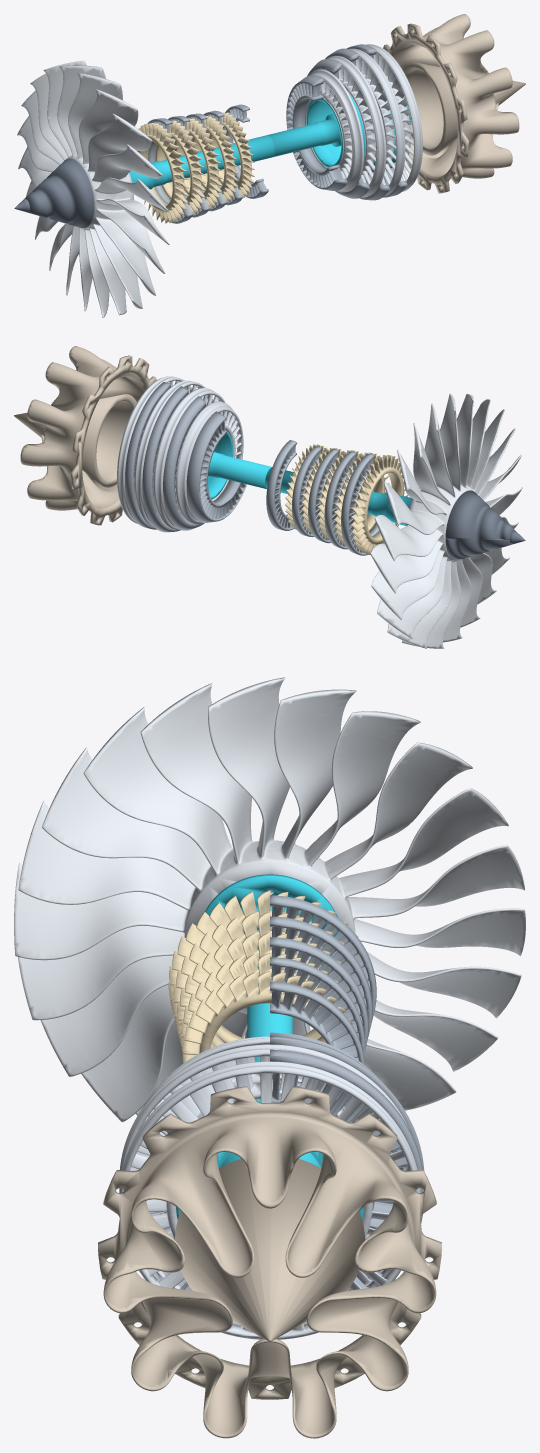
Rendered from L2_turbofan_core.glb.
3 renders of one model, top to bottom at view 1: azimuth 30°, elevation 25°; view 2: azimuth 150°, elevation 25°; view 3: azimuth 270°, elevation 25°, orthographic. The views are drawn at different scales.
Visible parts, largest first — view 1: L2_Titanium_Fan_Rotor, L2_Lobed_Exhaust_Mixer, L2_Exhaust_Center_Cone, L2_Spinner_Cone, L2_LPT_Stage2_Rotor, L2_LPT_Stage1_Rotor, L2_LPT_Stage3_Rotor, L2_LPT_Stage4_Rotor, L2_LPT_Stage1_Stator, L2_HPC_Stage1_Rotor, L2_N1_LP_Shaft_Aft, L2_N1_LP_Shaft_Front (+10 smaller); view 2: L2_Titanium_Fan_Rotor, L2_Lobed_Exhaust_Mixer, L2_Exhaust_Center_Cone, L2_LPT_Stage1_Stator, L2_Spinner_Cone, L2_LPT_Stage1_Rotor, L2_HPC_Stage1_Rotor, L2_LPT_Stage2_Stator, L2_LPT_Stage3_Stator, L2_LPT_Stage2_Rotor, L2_LPT_Stage4_Stator, L2_LPT_Stage3_Rotor (+13 smaller); view 3: L2_Titanium_Fan_Rotor, L2_Lobed_Exhaust_Mixer, L2_Exhaust_Center_Cone, L2_LPT_Stage4_Rotor, L2_LPT_Stage3_Rotor, L2_HPC_Stage5_Rotor, L2_LPT_Stage4_Stator, L2_N1_LP_Shaft_Front, L2_HPC_Stage5_Stator, L2_HPC_Stage1_Rotor, L2_HPC_Stage2_Rotor, L2_HPC_Stage1_Stator (+7 smaller).
Part boxes in pixels (x1,y1,x2,y2): L2_Titanium_Fan_Rotor: (17, 60, 169, 317); L2_Lobed_Exhaust_Mixer: (383, 14, 519, 193); L2_Exhaust_Center_Cone: (400, 62, 525, 155); L2_Spinner_Cone: (24, 158, 94, 228); L2_LPT_Stage2_Rotor: (327, 56, 386, 197); L2_LPT_Stage1_Rotor: (304, 69, 364, 192); L2_LPT_Stage3_Rotor: (349, 48, 405, 196); L2_LPT_Stage4_Rotor: (366, 44, 422, 191); L2_LPT_Stage1_Stator: (286, 75, 347, 190); L2_HPC_Stage1_Rotor: (137, 123, 188, 223); L2_N1_LP_Shaft_Aft: (267, 105, 410, 156); L2_N1_LP_Shaft_Front: (129, 135, 274, 189); L2_Titanium_Fan_Rotor: (370, 394, 522, 648); L2_Lobed_Exhaust_Mixer: (20, 346, 156, 525); L2_Exhaust_Center_Cone: (14, 394, 136, 487); L2_LPT_Stage1_Stator: (186, 411, 246, 522); L2_Spinner_Cone: (445, 490, 515, 560); L2_LPT_Stage1_Rotor: (175, 401, 243, 524); L2_HPC_Stage1_Rotor: (351, 455, 407, 554); L2_LPT_Stage2_Stator: (163, 396, 205, 530); L2_LPT_Stage3_Stator: (142, 386, 188, 532); L2_LPT_Stage2_Rotor: (153, 388, 227, 529); L2_LPT_Stage4_Stator: (125, 382, 170, 529); L2_LPT_Stage3_Rotor: (134, 380, 213, 527); L2_Titanium_Fan_Rotor: (14, 677, 525, 1122); L2_Lobed_Exhaust_Mixer: (98, 1086, 441, 1438); L2_Exhaust_Center_Cone: (175, 1159, 364, 1341); L2_LPT_Stage4_Rotor: (119, 1061, 420, 1339); L2_LPT_Stage3_Rotor: (119, 1044, 408, 1290); L2_HPC_Stage5_Rotor: (182, 971, 352, 1063); L2_LPT_Stage4_Stator: (153, 1049, 423, 1325); L2_N1_LP_Shaft_Front: (205, 874, 339, 1061); L2_HPC_Stage5_Stator: (270, 981, 364, 1064); L2_HPC_Stage1_Rotor: (168, 890, 358, 1042); L2_HPC_Stage2_Rotor: (172, 912, 354, 1046); L2_HPC_Stage1_Stator: (218, 895, 376, 1042).
Size of the model in its own units: 4.13 by 1.8 by 1.8.
